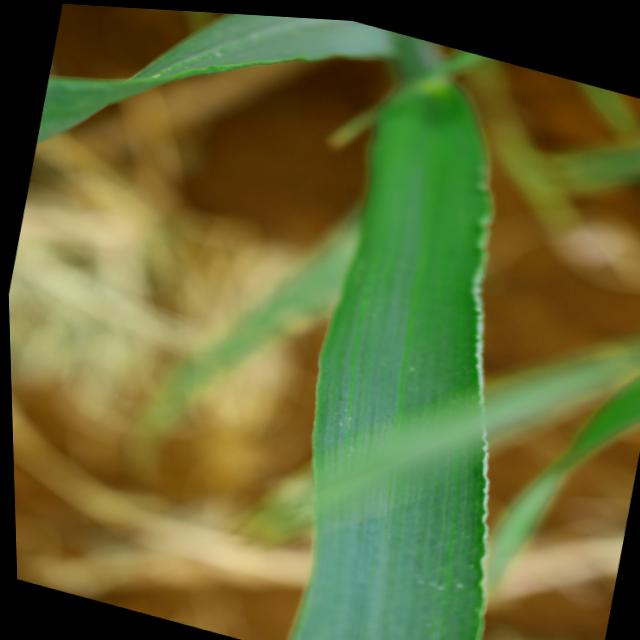healthy_wheat: (229, 13, 627, 640), (32, 1, 373, 214)
